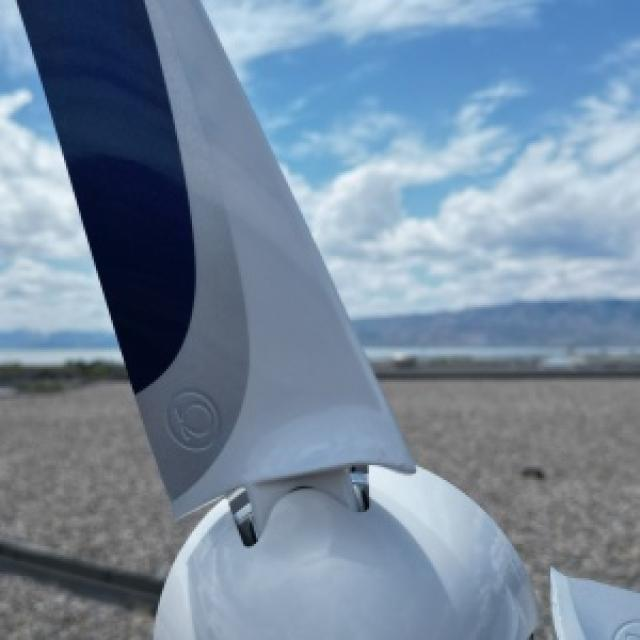healthy: (17, 0, 531, 638)
